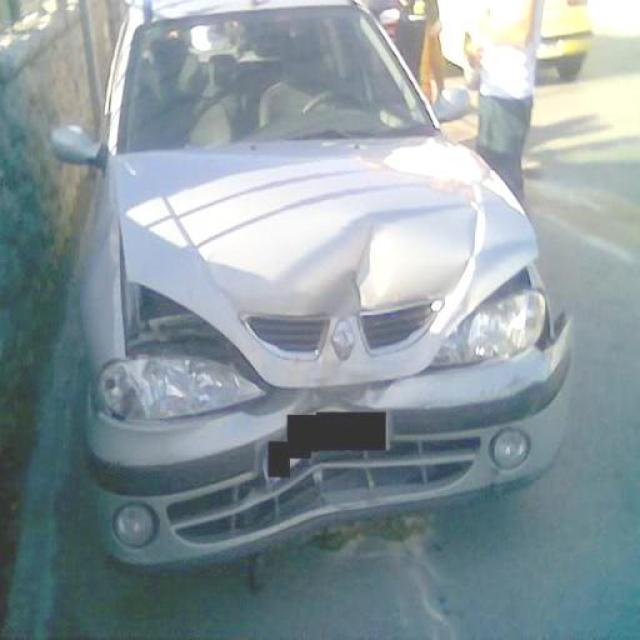car damage: (219, 218, 477, 389), (171, 441, 425, 541), (124, 280, 281, 403), (199, 376, 408, 453), (430, 369, 538, 410), (530, 310, 575, 364)
